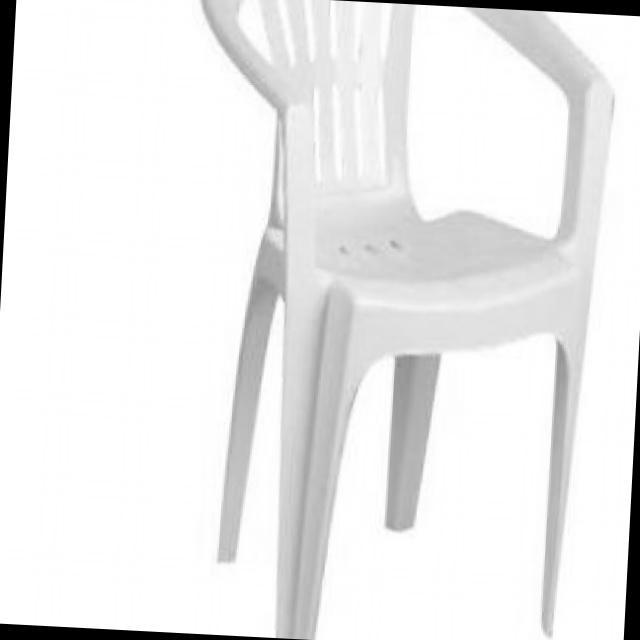chair: (167, 0, 624, 640)
